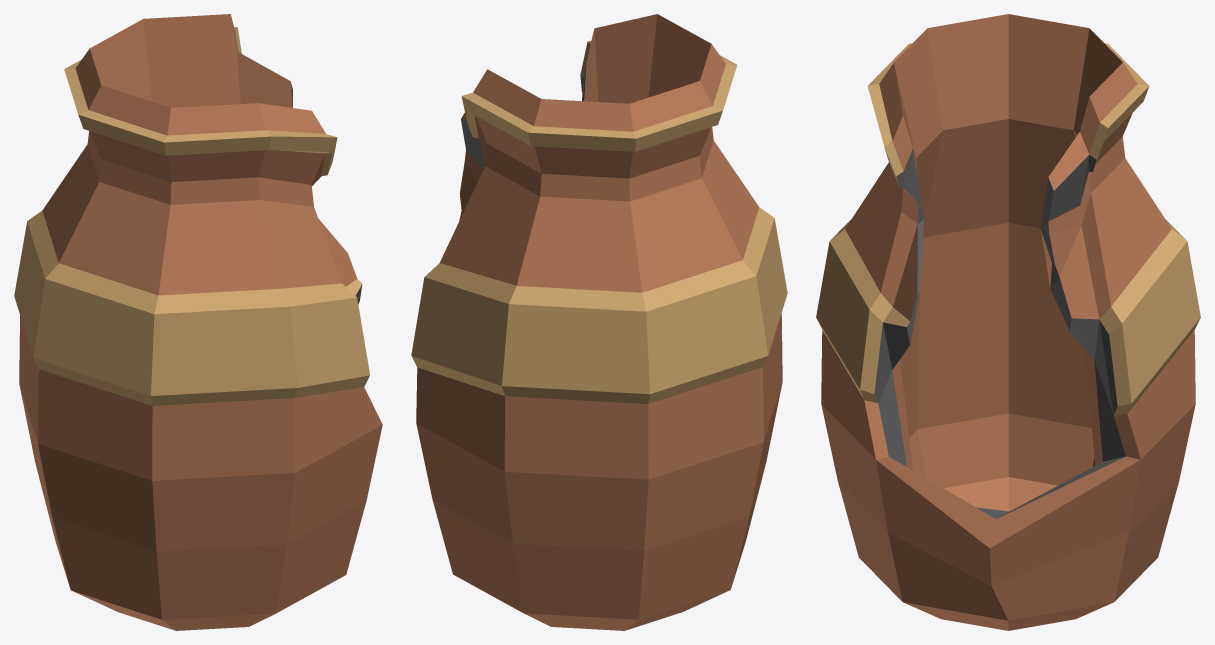
File: VaseHighBroken.fbx
The picture shows the model from 3 angles, left to right: view 1: azimuth 30°, elevation 25°; view 2: azimuth 150°, elevation 25°; view 3: azimuth 270°, elevation 25°; orthographic projection.
Parts seen in each view (by area): view 1: VaseHighBroken; view 2: VaseHighBroken; view 3: VaseHighBroken.
Part boxes in pixels (<box>): VaseHighBroken: <box>14,14,382,630</box>; VaseHighBroken: <box>411,14,787,630</box>; VaseHighBroken: <box>816,14,1200,630</box>.
Bounding box in the file's own units: 65.04 × 107 × 70.85.
1 material, 1 textured.
